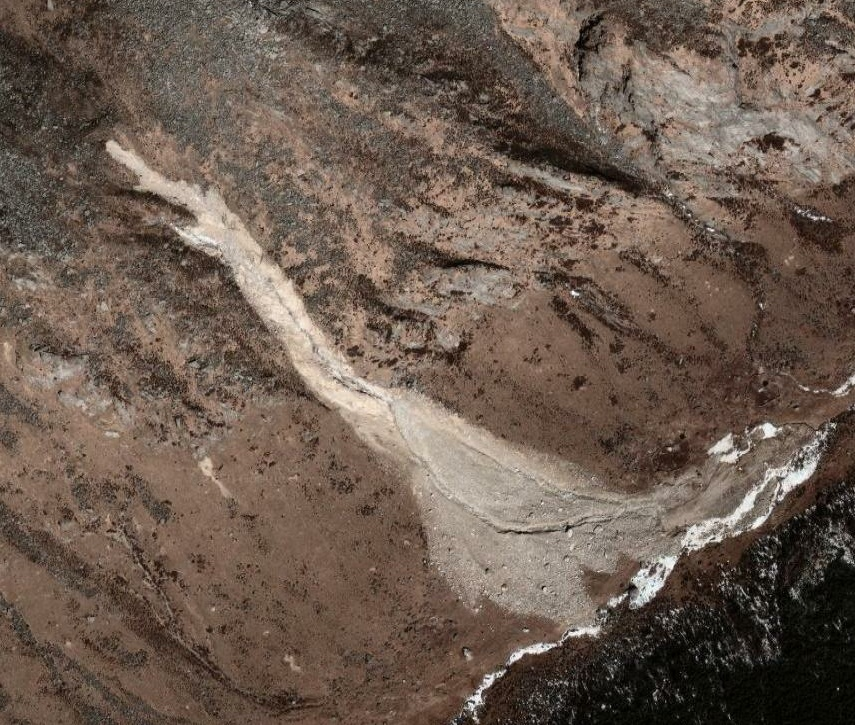slope: (99, 135, 823, 631), (575, 11, 854, 187)
